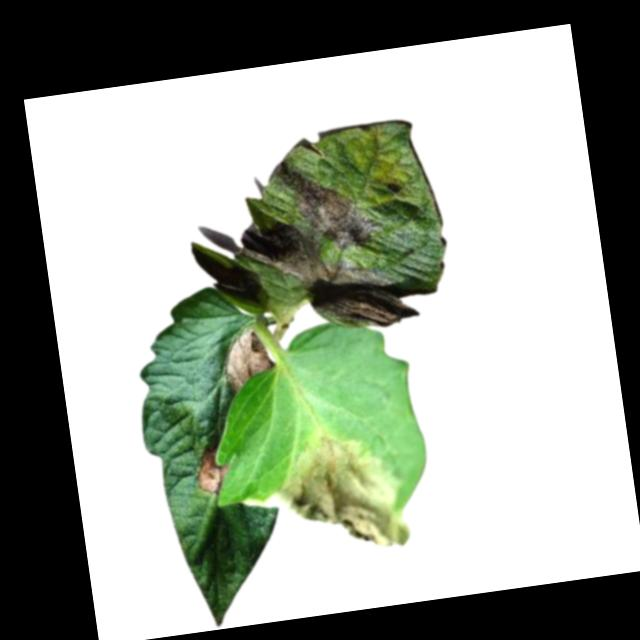Late_blight: (231, 139, 453, 340), (260, 426, 412, 567), (217, 321, 275, 395), (190, 448, 234, 500)
